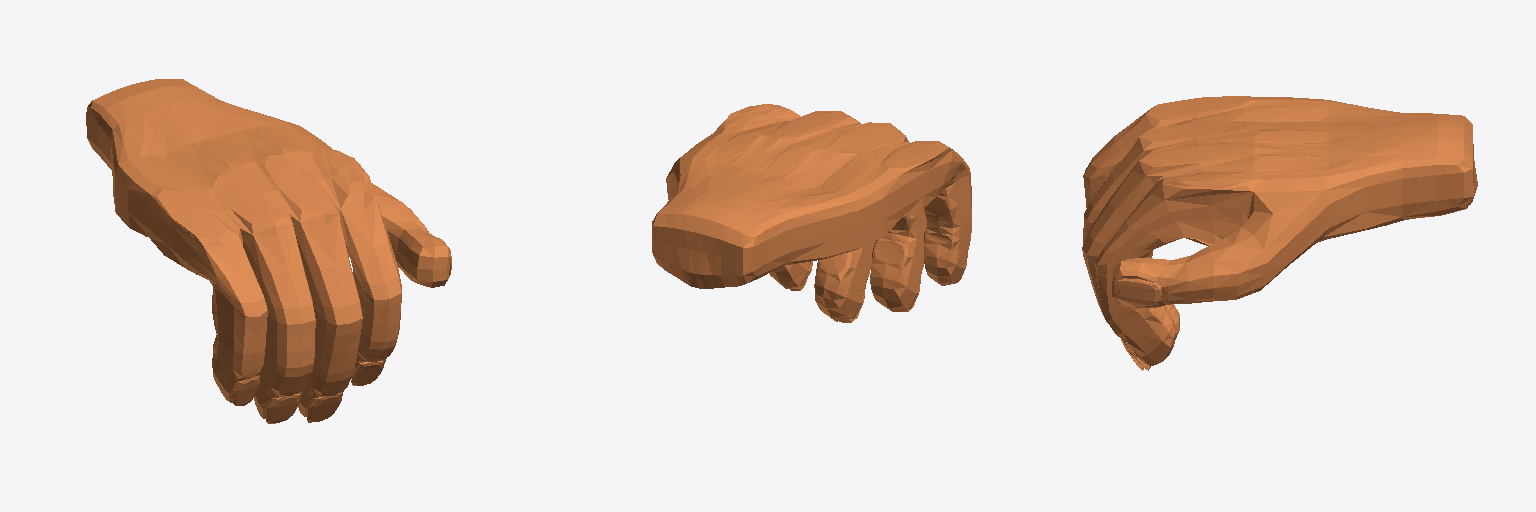
File: hand7.obj
3 renders of one model, left to right at view 1: azimuth 30°, elevation 25°; view 2: azimuth 150°, elevation 25°; view 3: azimuth 270°, elevation 25°, orthographic.
Visible parts, largest first — view 1: Box001; view 2: Box001; view 3: Box001.
Boxes of the visible parts, box(x1,y1,x2,y2) form: Box001: box(86, 79, 451, 423); Box001: box(652, 104, 971, 322); Box001: box(1082, 96, 1477, 370).
Size of the model in its own units: 196 by 173 by 270.